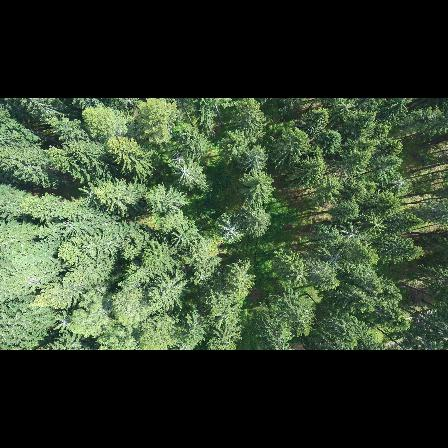Sick: (217, 216, 244, 244), (51, 308, 73, 336), (389, 172, 412, 194), (176, 161, 195, 184)
